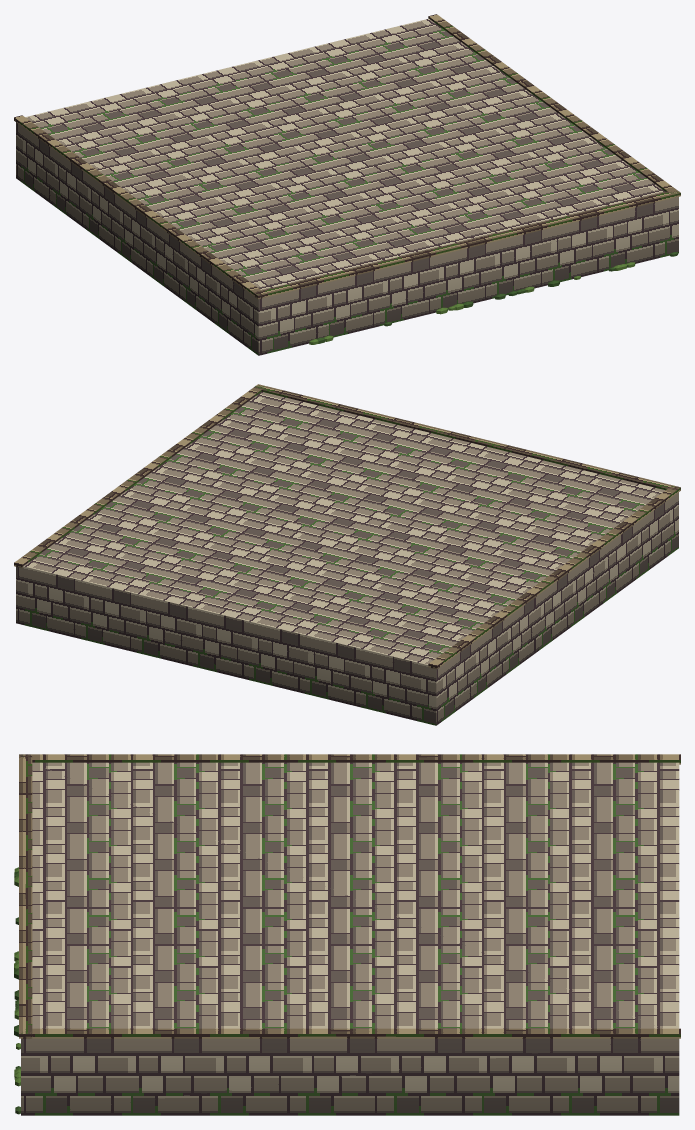
The picture shows the model from 3 angles, top to bottom: view 1: azimuth 30°, elevation 25°; view 2: azimuth 150°, elevation 25°; view 3: azimuth 270°, elevation 25°; orthographic projection. The views are drawn at different scales.
Parts seen in each view (by area): view 1: scene_c8; view 2: scene_c8; view 3: scene_c8.
Part boxes in pixels (x1,y1,x2,y2): scene_c8: (14, 14, 680, 355); scene_c8: (14, 384, 680, 725); scene_c8: (14, 754, 680, 1115).
Size of the model in its own units: 18.1 by 2.57 by 18.24.
2 materials, 1 textured.
